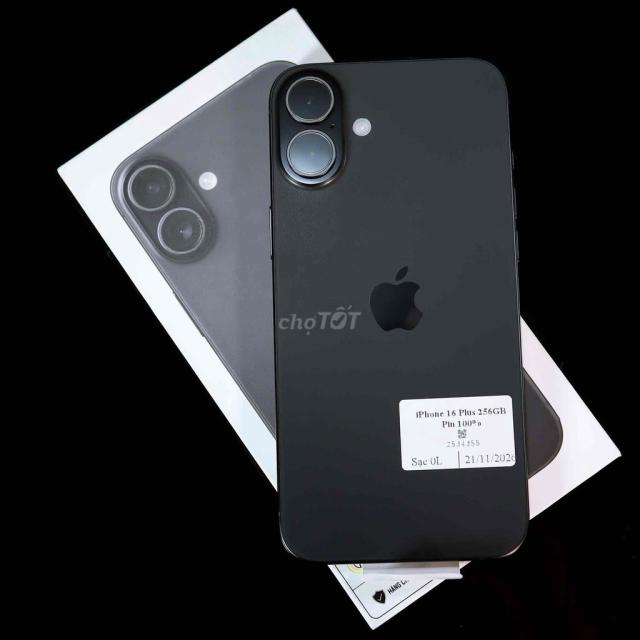gen_16: (253, 40, 542, 575)
